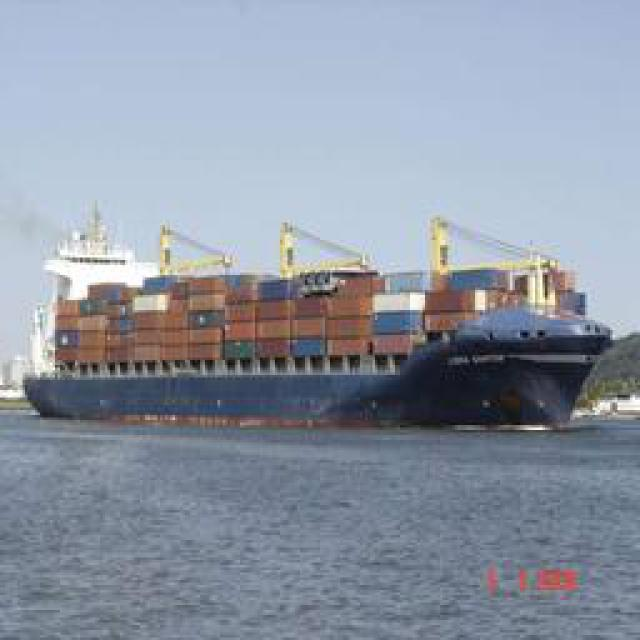Ship: (21, 206, 619, 429)
